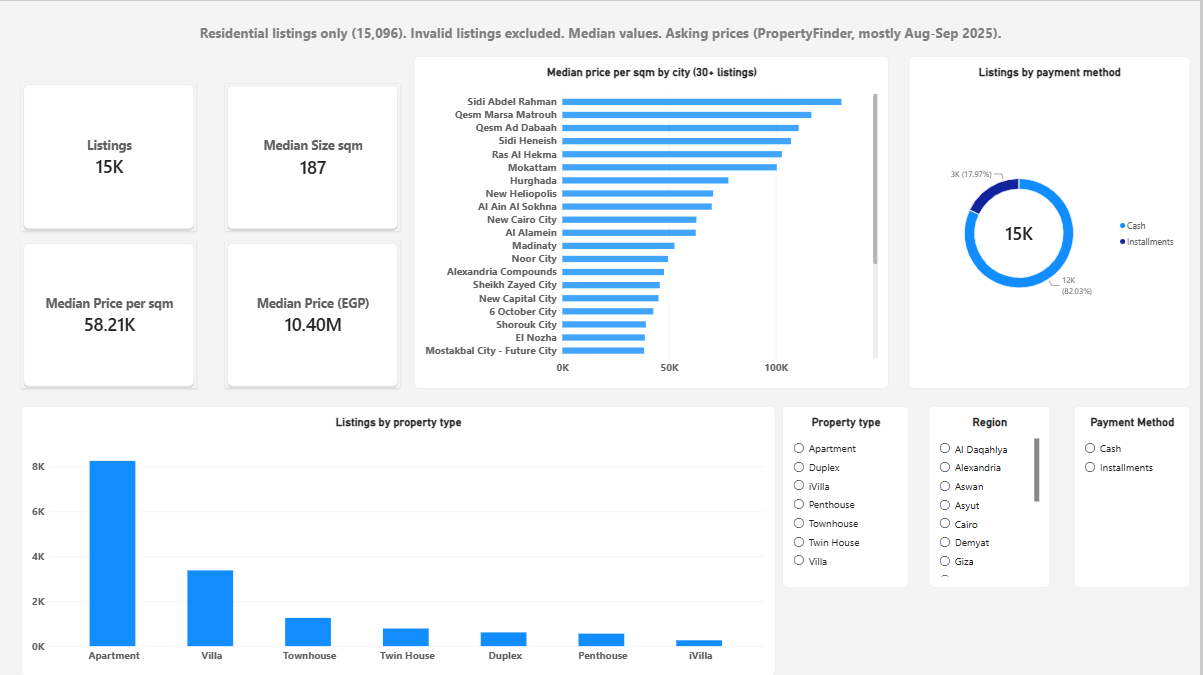

Layout of this report page (visuals, bound fields, positions):
{"tool":"powerbi","page":{"name":"Market Overview","canvas":[1920,1080],"ordinal":0},"visuals":[{"type":"cardVisual","fields":{"Data":["cleaned_data.Listings"]},"box":[34,130,280,238],"z":0},{"type":"cardVisual","fields":{"Data":["cleaned_data.Median Price"]},"box":[360,384,280,236],"z":1000},{"type":"cardVisual","fields":{"Data":["cleaned_data.Median Price per sqm"]},"box":[34,384,280,236],"z":2000},{"type":"cardVisual","fields":{"Data":["cleaned_data.Median Size sqm"]},"box":[360,132,280,236],"z":3000},{"type":"clusteredBarChart","title":"Median price per sqm by city (30+ listings)","fields":{"Category":["cleaned_data.city"],"Y":["cleaned_data.Median Price per sqm"]},"box":[662,88,760,532],"z":4000},{"type":"donutChart","title":"Listings by payment method","fields":{"Category":["cleaned_data.payment_method"],"Y":["cleaned_data.Listings"]},"box":[1454,88,450,532],"z":5000},{"type":"clusteredColumnChart","title":"Listings by property type","fields":{"Category":["cleaned_data.type"],"Y":["cleaned_data.Listings"]},"box":[34,648,1206,432],"z":6000},{"type":"listSlicer","title":"Region","fields":{"Values":["cleaned_data.region"]},"box":[1486,648,194,290],"z":7000},{"type":"listSlicer","title":"Property type","fields":{"Values":["cleaned_data.type"]},"box":[1252,648,202,290],"z":8000},{"type":"listSlicer","title":"Payment Method","fields":{"Values":["cleaned_data.payment_method"]},"box":[1718,648,186,290],"z":9000},{"type":"textbox","box":[136,36,1650,104],"z":10000}]}

Visuals, with their boxes in screenshot pixels (x1, y1, x2, y2), scaled from the page's 1920x1080 canvas onto the 1203x675 screenshot:
cardVisual - cleaned_data.Listings: crop(21, 81, 197, 230)
cardVisual - cleaned_data.Median Price: crop(226, 240, 401, 388)
cardVisual - cleaned_data.Median Price per sqm: crop(21, 240, 197, 388)
cardVisual - cleaned_data.Median Size sqm: crop(226, 82, 401, 230)
"Median price per sqm by city (30+ listings)" clusteredBarChart: crop(415, 55, 891, 388)
"Listings by payment method" donutChart: crop(911, 55, 1193, 388)
"Listings by property type" clusteredColumnChart: crop(21, 405, 777, 674)
"Region" listSlicer: crop(931, 405, 1053, 586)
"Property type" listSlicer: crop(784, 405, 911, 586)
"Payment Method" listSlicer: crop(1076, 405, 1193, 586)
textbox: crop(85, 22, 1119, 88)
